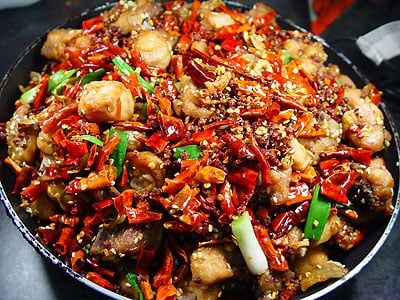sandwich: (2, 1, 397, 300)
